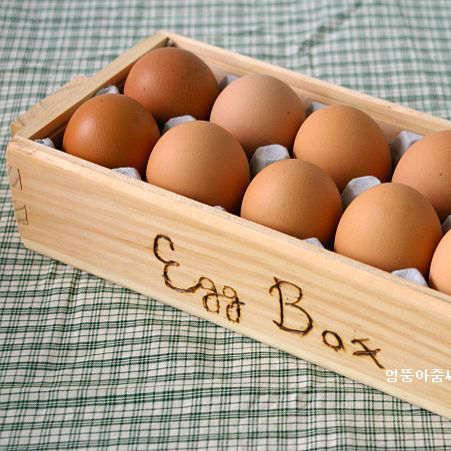egg: (61, 47, 451, 295)
